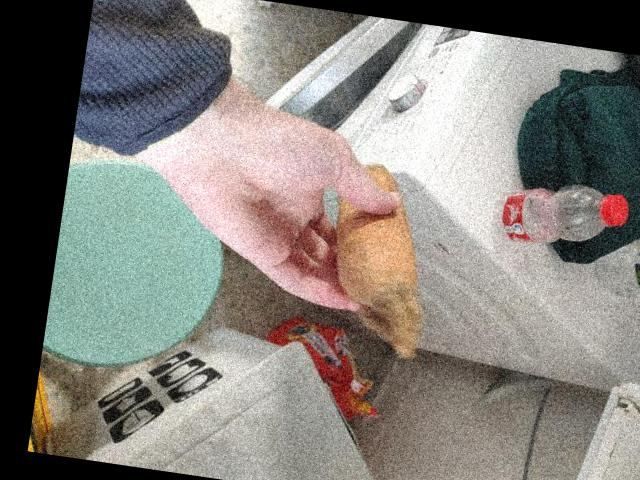sweet_potato: (331, 182, 428, 308)
